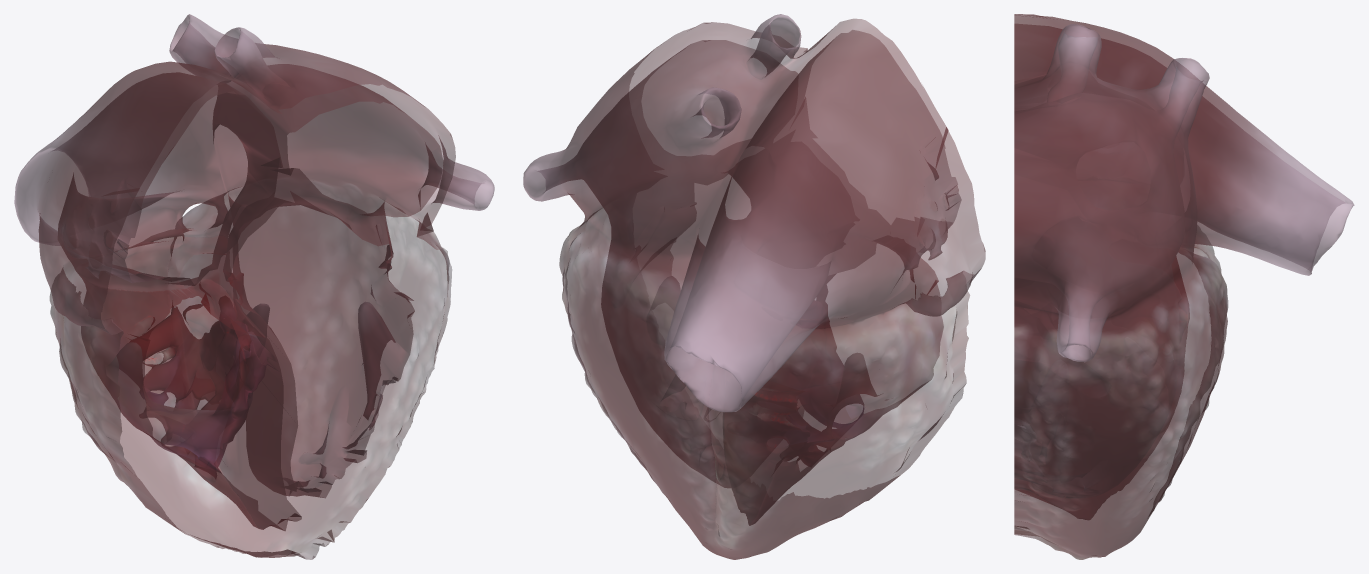
The model's file is limbLeadsHeart.fbx.
3 views of the same model, side by side, from view 1: azimuth 30°, elevation 25°; view 2: azimuth 150°, elevation 25°; view 3: azimuth 270°, elevation 25° (orthographic). The views are drawn at different scales.
Parts seen in each view (by area): view 1: MM634_BP51951_FMA4706_Coronary_sinus821; view 2: MM634_BP51951_FMA4706_Coronary_sinus821; view 3: MM634_BP51951_FMA4706_Coronary_sinus821.
Part boxes in pixels (x1,y1,x2,y2): MM634_BP51951_FMA4706_Coronary_sinus821: (14, 14, 494, 559); MM634_BP51951_FMA4706_Coronary_sinus821: (523, 14, 985, 559); MM634_BP51951_FMA4706_Coronary_sinus821: (1014, 14, 1354, 559).
Size of the model in its own units: 0.6869 by 0.49 by 0.8184.
